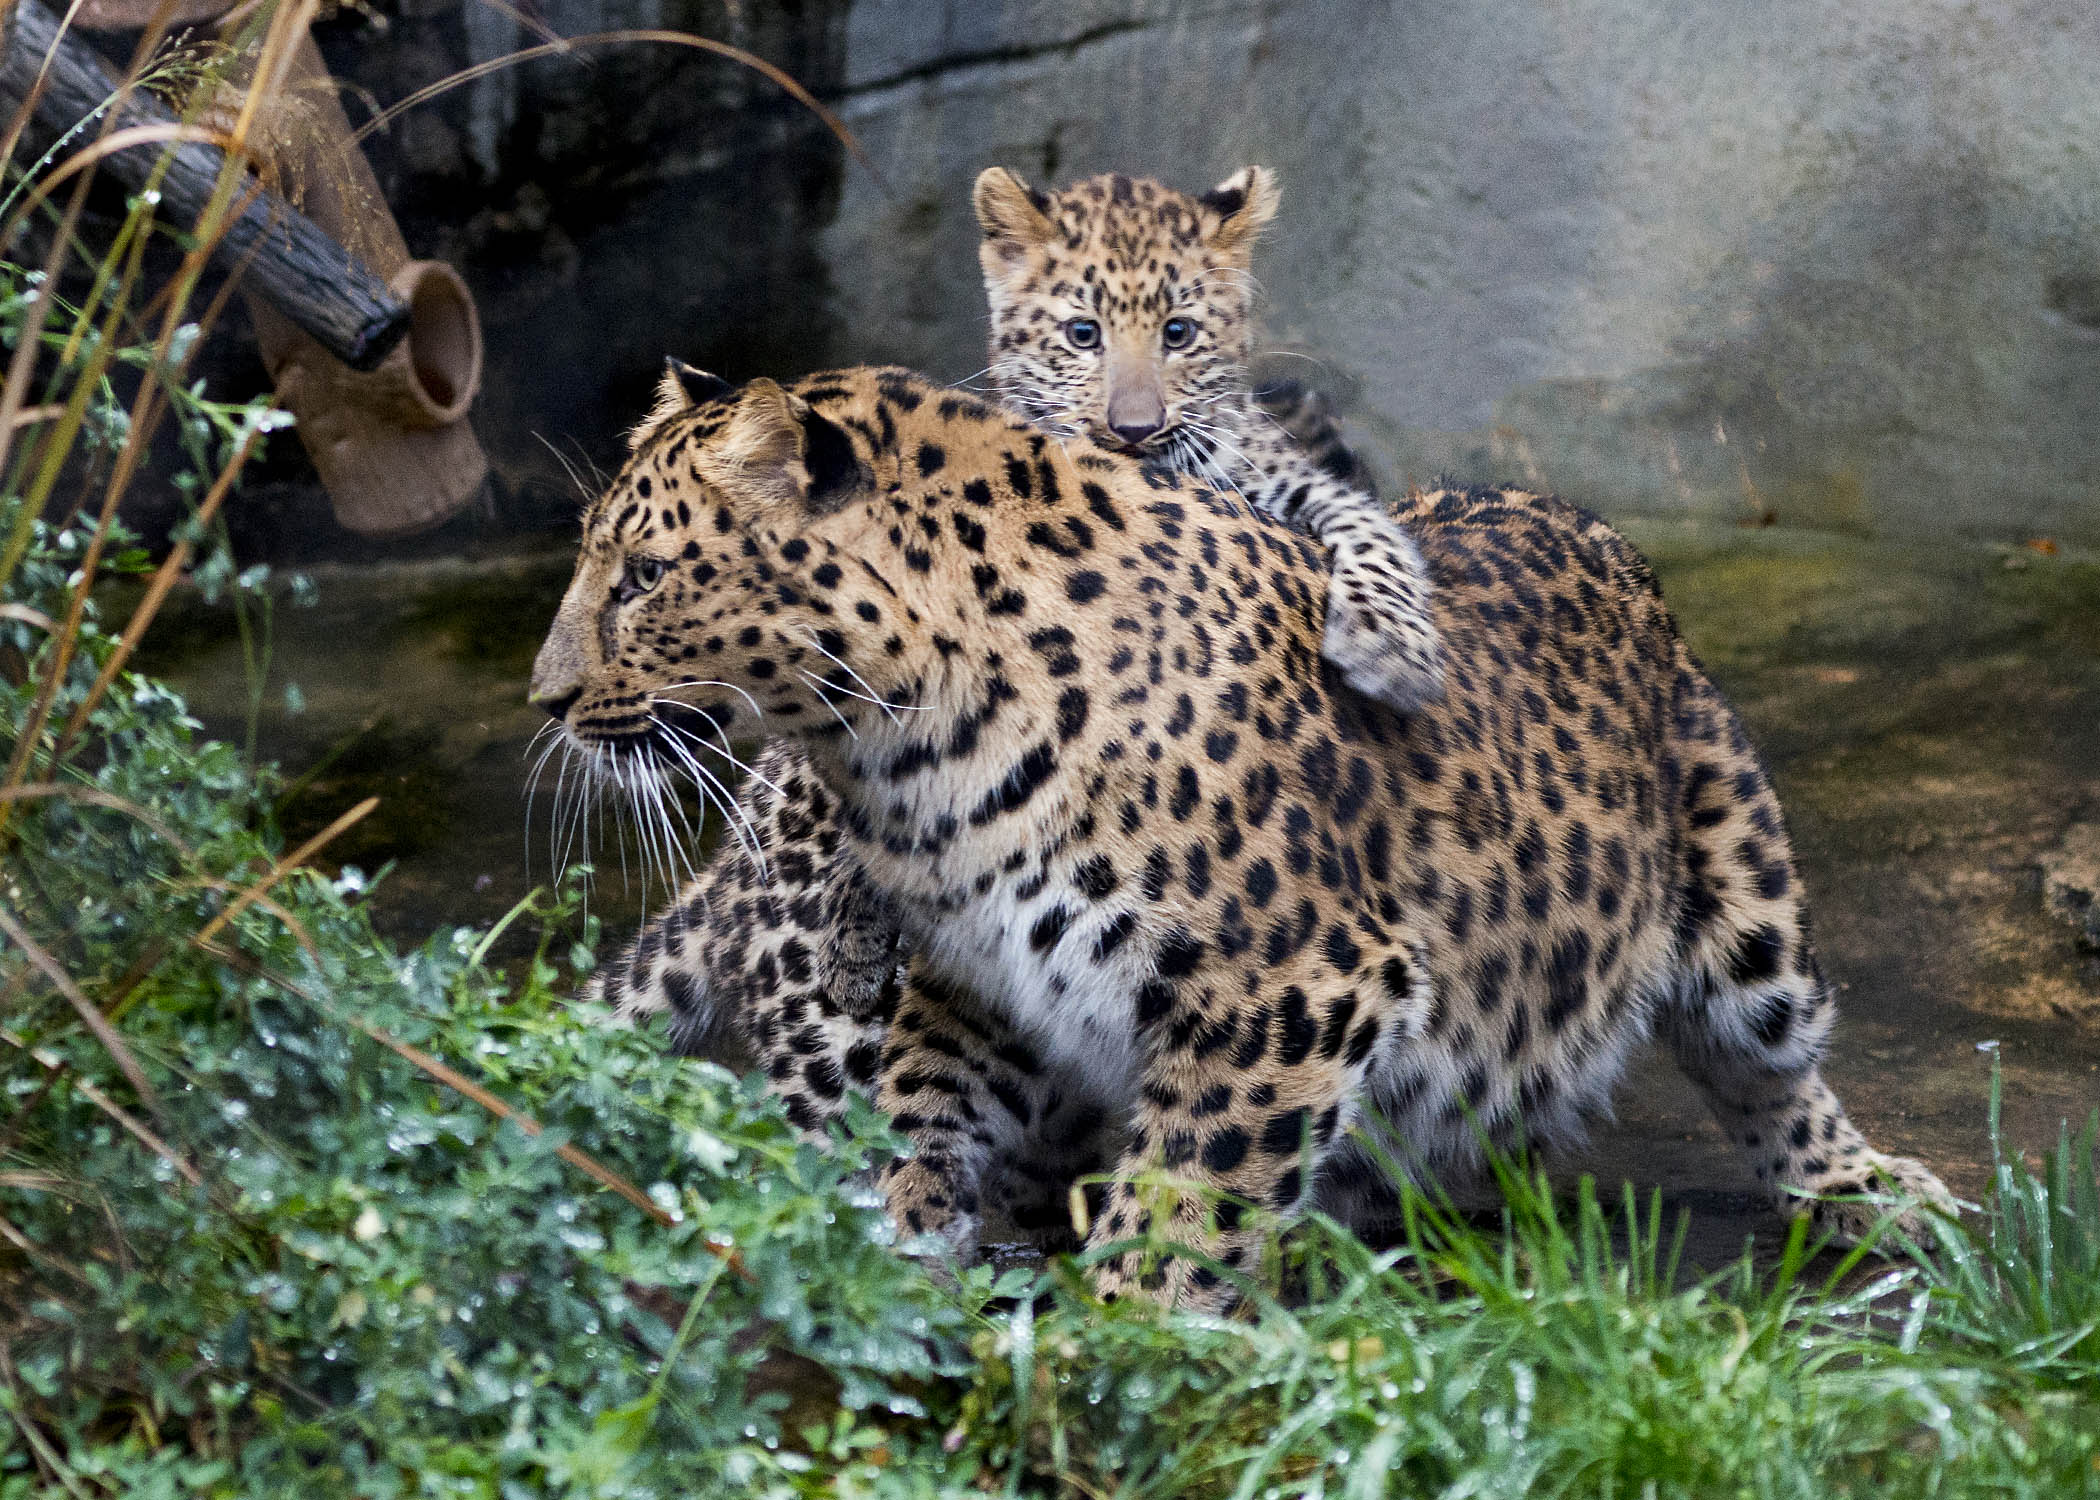amur_leopard: (511, 354, 927, 802), (928, 149, 1388, 474)
